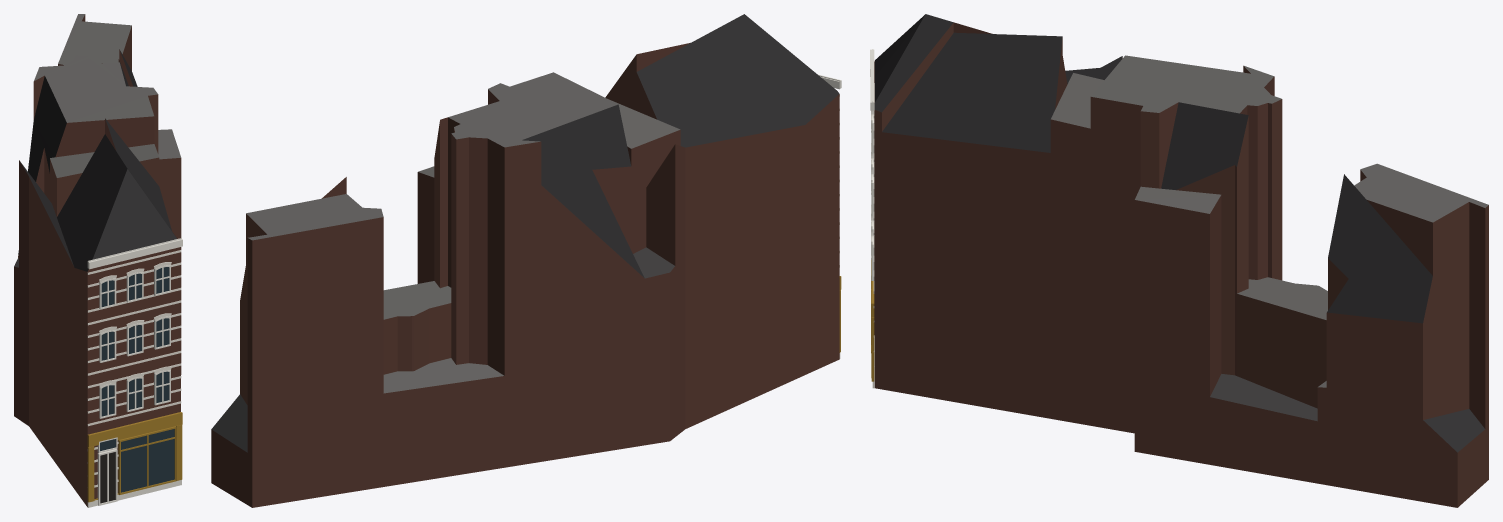
3 views of the same model, side by side, from view 1: azimuth 30°, elevation 25°; view 2: azimuth 150°, elevation 25°; view 3: azimuth 270°, elevation 25° (orthographic). The views are drawn at different scales.
Visible parts, largest first — view 1: spec-0363100012177909; view 2: spec-0363100012177909; view 3: spec-0363100012177909.
Boxes of the visible parts, left/top/right/bottom form: spec-0363100012177909: left=14, top=14, right=182, bottom=507; spec-0363100012177909: left=211, top=14, right=841, bottom=507; spec-0363100012177909: left=870, top=14, right=1488, bottom=507.
Bounding box in the file's own units: 16.73 × 16.09 × 25.31.
